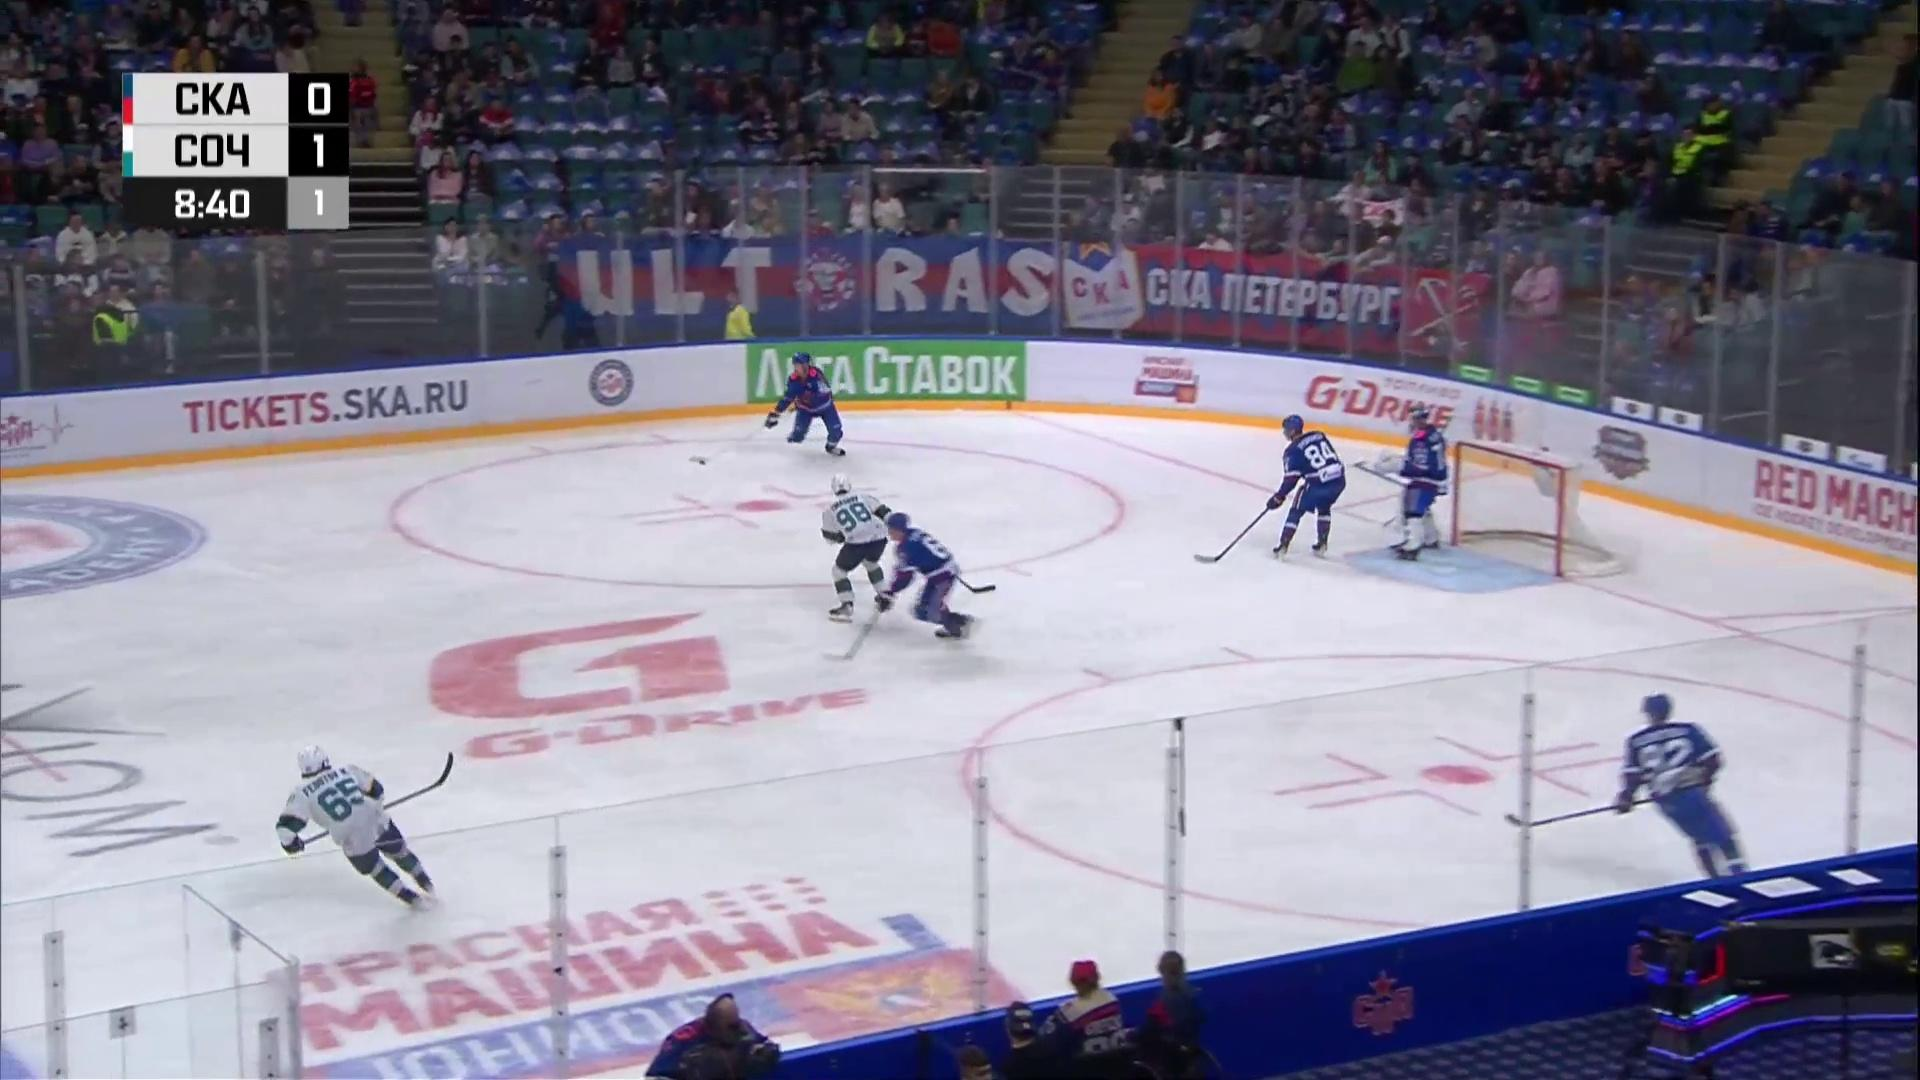ball: (699, 460, 705, 465)
